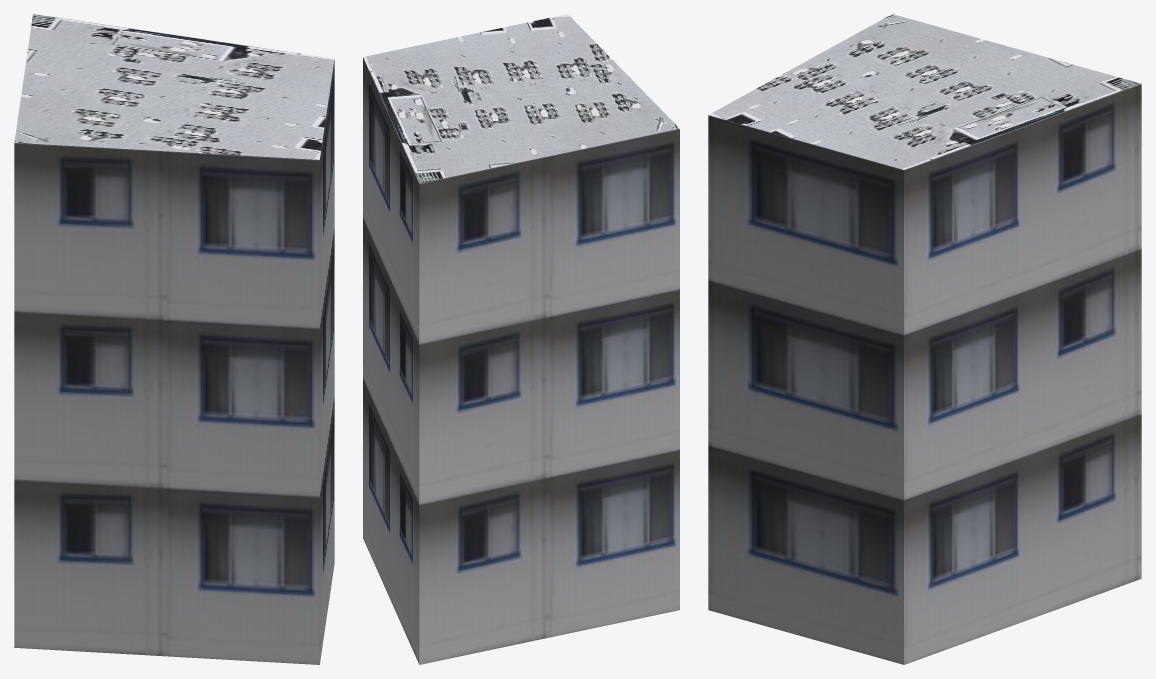
Rendered from ResTex__127.fbx.
3 renders of one model, left to right at view 1: azimuth 30°, elevation 25°; view 2: azimuth 150°, elevation 25°; view 3: azimuth 270°, elevation 25°, orthographic. The views are drawn at different scales.
Visible parts, largest first — view 1: CityEngineMaterial_9_m, CityEngineMaterial_m; view 2: CityEngineMaterial_9_m, CityEngineMaterial_m; view 3: CityEngineMaterial_9_m, CityEngineMaterial_m.
Boxes of the visible parts, x1,y1,x2,y2 form: CityEngineMaterial_9_m: [14, 59, 334, 664]; CityEngineMaterial_m: [14, 14, 334, 159]; CityEngineMaterial_9_m: [363, 57, 679, 664]; CityEngineMaterial_m: [363, 14, 679, 183]; CityEngineMaterial_9_m: [708, 84, 1141, 664]; CityEngineMaterial_m: [708, 14, 1141, 169].
Size of the model in its own units: 6.08 by 9 by 7.15.
2 materials, 2 textured.
